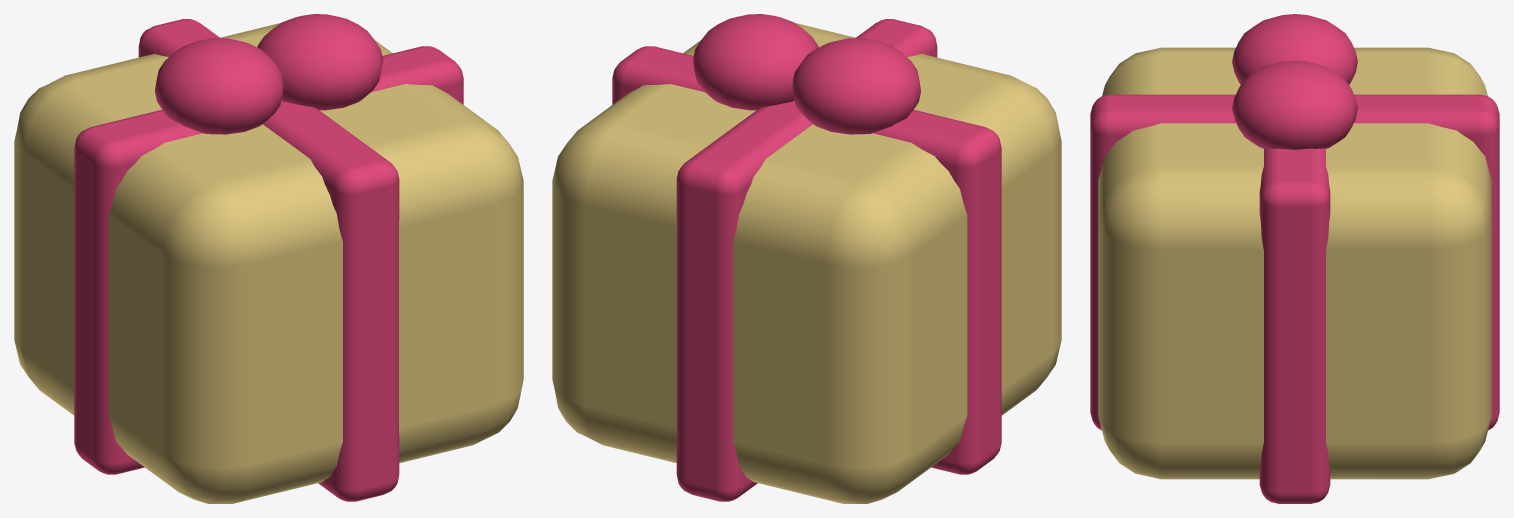
Rendered from packet.glb.
3 renders of one model, left to right at view 1: azimuth 30°, elevation 25°; view 2: azimuth 150°, elevation 25°; view 3: azimuth 270°, elevation 25°, orthographic. The views are drawn at different scales.
Parts seen in each view (by area): view 1: packet; view 2: packet; view 3: packet.
Part boxes in pixels (x1,y1,x2,y2): packet: [14, 14, 523, 503]; packet: [552, 14, 1061, 503]; packet: [1090, 14, 1499, 503].
Size of the model in its own units: 1.04 by 1.06 by 1.04.
